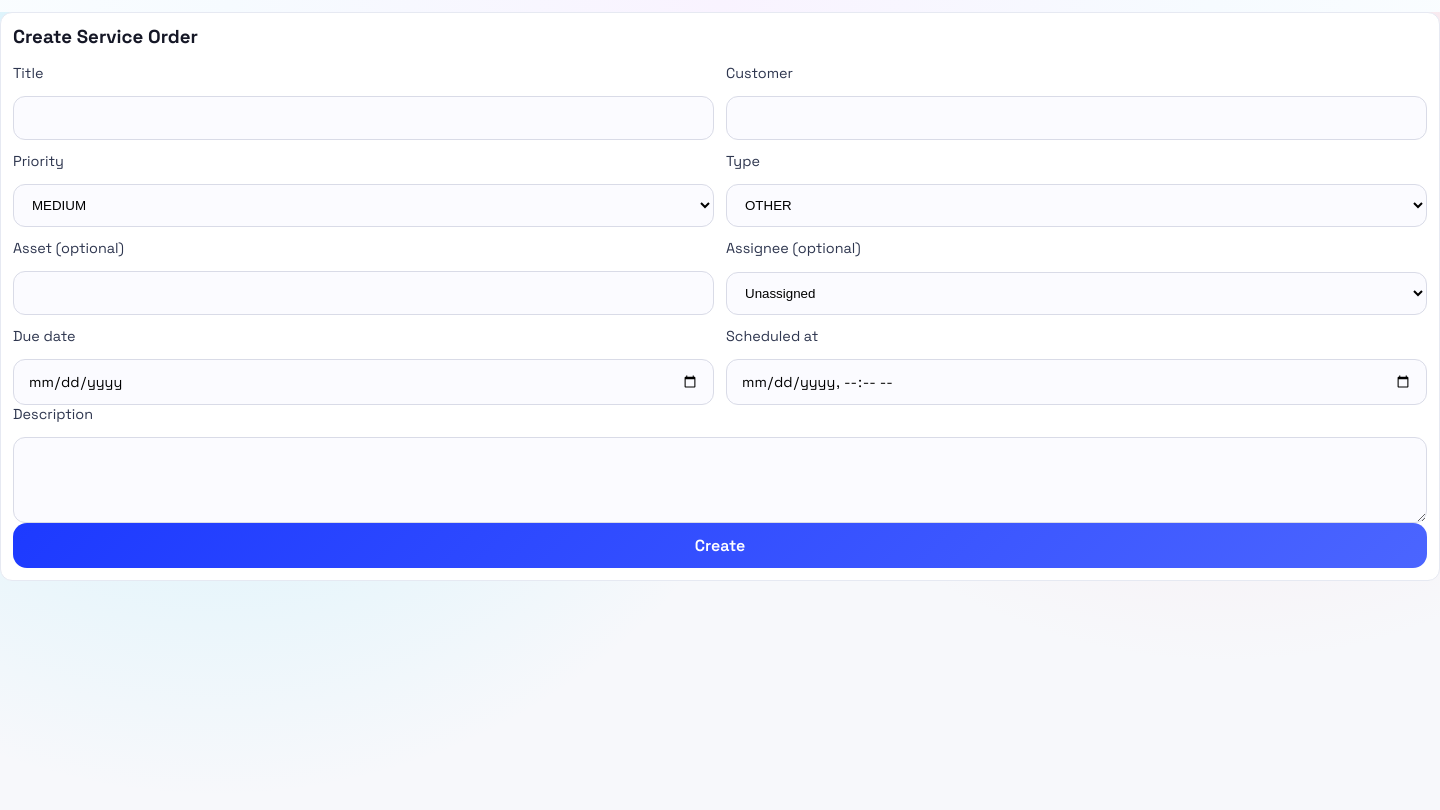
Test case: OrderForm › renders required fields and validation errors
The width and height of the screenshot is (1440, 810).
Check: the field labelled "Title" is shown, box top-left (13, 96), bottom-right (714, 140)
Check: the field labelled "Customer" is shown, box top-left (726, 96), bottom-right (1427, 140)
Step 1. Click the button "Create" → (720, 546), box top-left (13, 523), bottom-right (1427, 568)
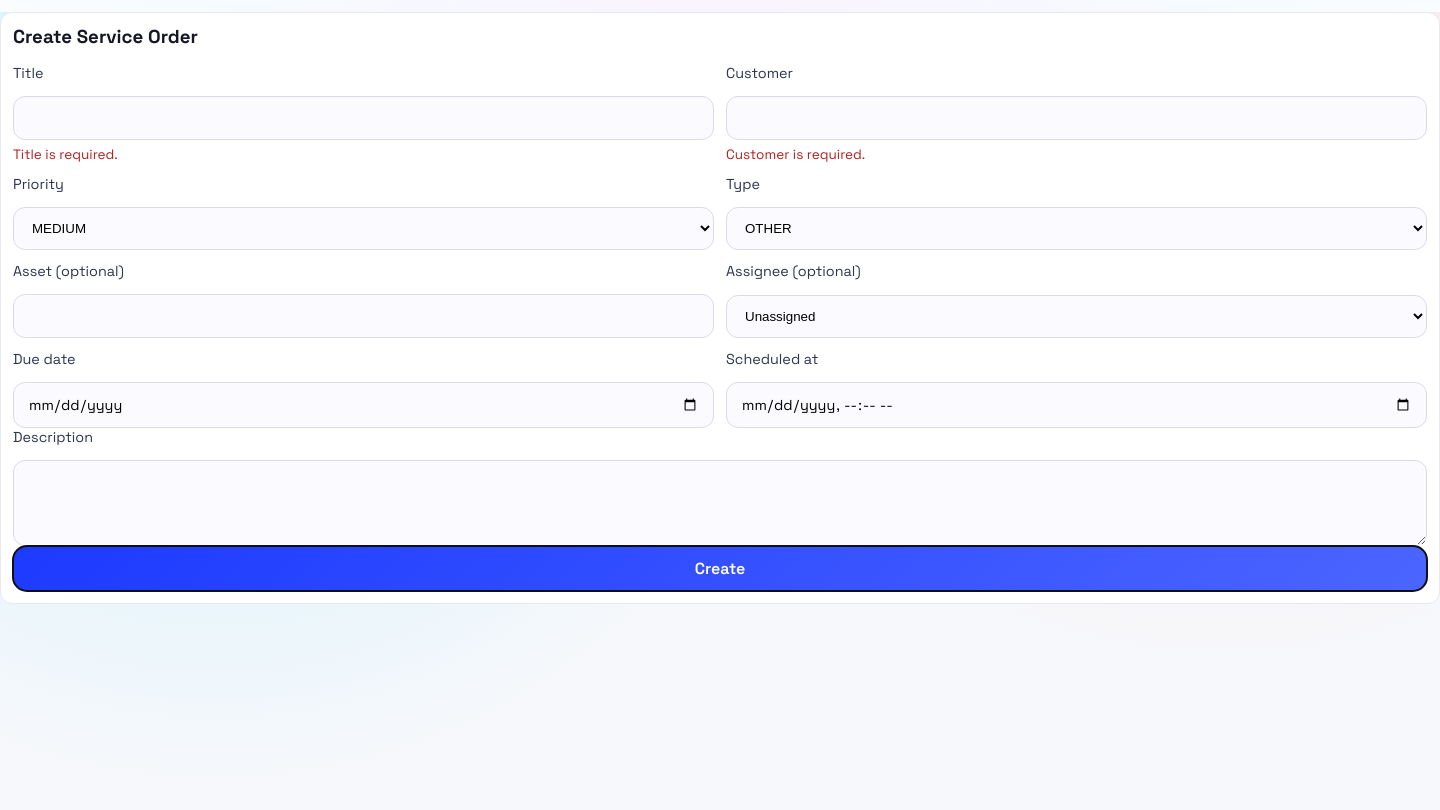
Check: the text "Title is required." is shown, box top-left (13, 146), bottom-right (118, 163)
Check: the text "Customer is required." is shown, box top-left (726, 146), bottom-right (865, 163)
